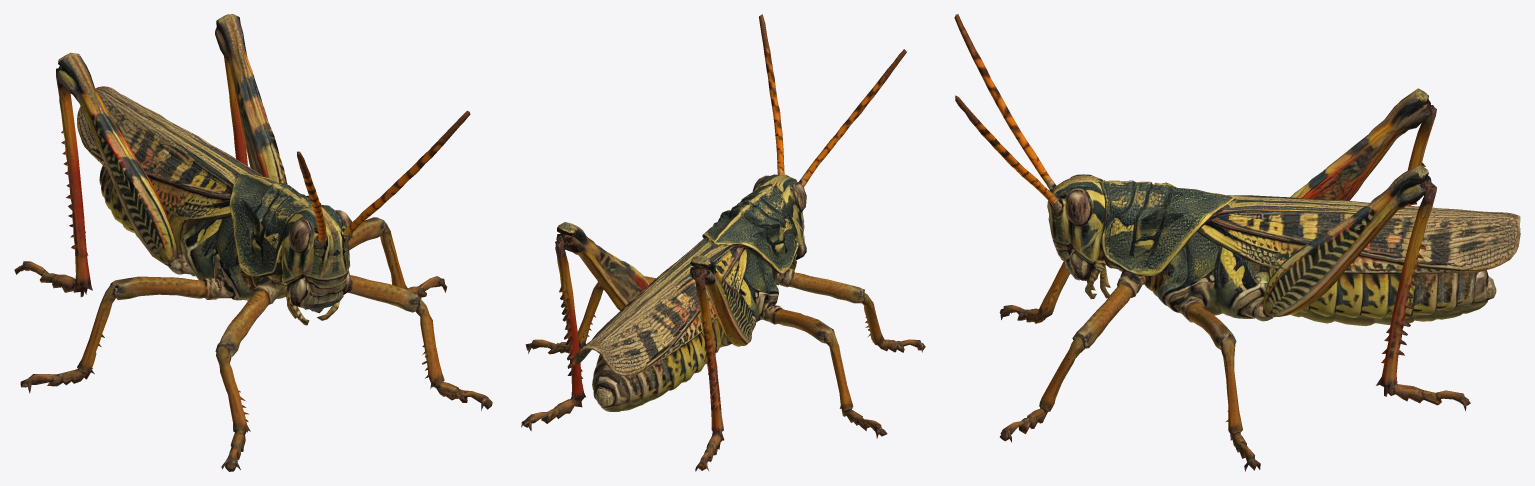
File: grasshopper.glb
The picture shows the model from 3 angles, left to right: view 1: azimuth 30°, elevation 25°; view 2: azimuth 150°, elevation 25°; view 3: azimuth 270°, elevation 25°; orthographic projection. The views are drawn at different scales.
Parts seen in each view (by area): view 1: tripo_node_8d3ad75b-9c6e-4bee-8269-28a9610e30c7; view 2: tripo_node_8d3ad75b-9c6e-4bee-8269-28a9610e30c7; view 3: tripo_node_8d3ad75b-9c6e-4bee-8269-28a9610e30c7.
Part boxes in pixels (left/top/right/bottom): tripo_node_8d3ad75b-9c6e-4bee-8269-28a9610e30c7: left=14, top=14, right=492, bottom=471; tripo_node_8d3ad75b-9c6e-4bee-8269-28a9610e30c7: left=521, top=14, right=925, bottom=471; tripo_node_8d3ad75b-9c6e-4bee-8269-28a9610e30c7: left=954, top=14, right=1520, bottom=471.
Bounding box in the file's own units: 0.8583 × 0.6308 × 1.
1 material, 1 textured.
